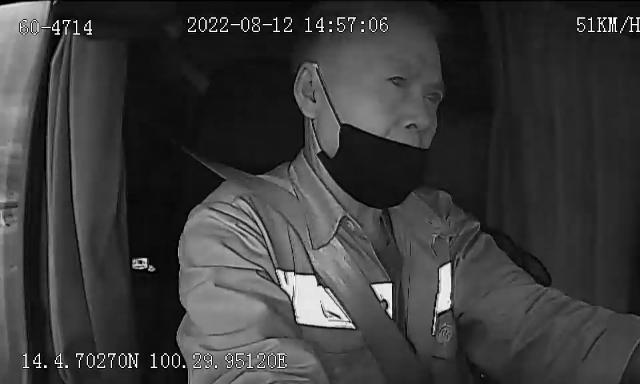SafeDriving: (379, 61, 414, 95)
Seatbelt: (191, 152, 435, 384)
